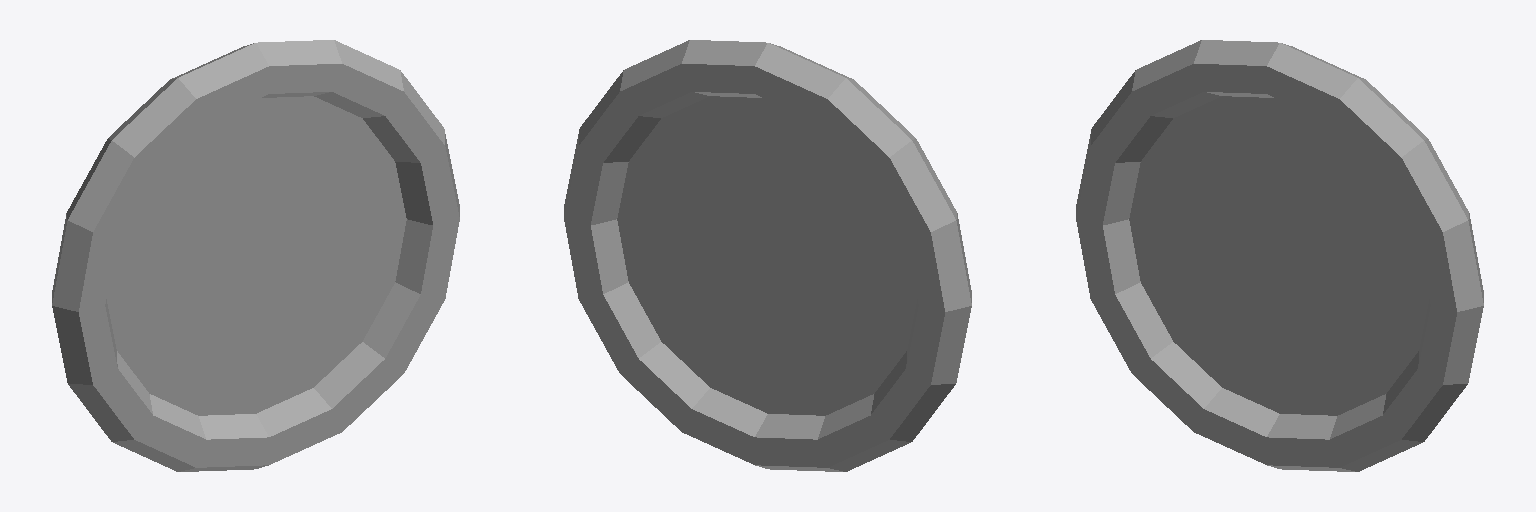
The model's file is gate.obj.
3 views of the same model, side by side, from view 1: azimuth 30°, elevation 25°; view 2: azimuth 150°, elevation 25°; view 3: azimuth 330°, elevation 25° (orthographic).
Parts seen in each view (by area): view 1: Merged_Meshes; view 2: Merged_Meshes; view 3: Merged_Meshes.
Part boxes in pixels (bbox=[...]): Merged_Meshes: bbox=[52, 40, 459, 471]; Merged_Meshes: bbox=[564, 40, 971, 471]; Merged_Meshes: bbox=[1076, 40, 1483, 471].
Size of the model in its own units: 2.3 by 2.3 by 0.2598.